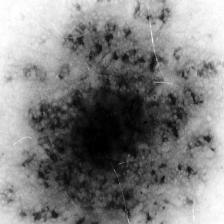Benign Marking or Mole: (14, 8, 223, 224)
